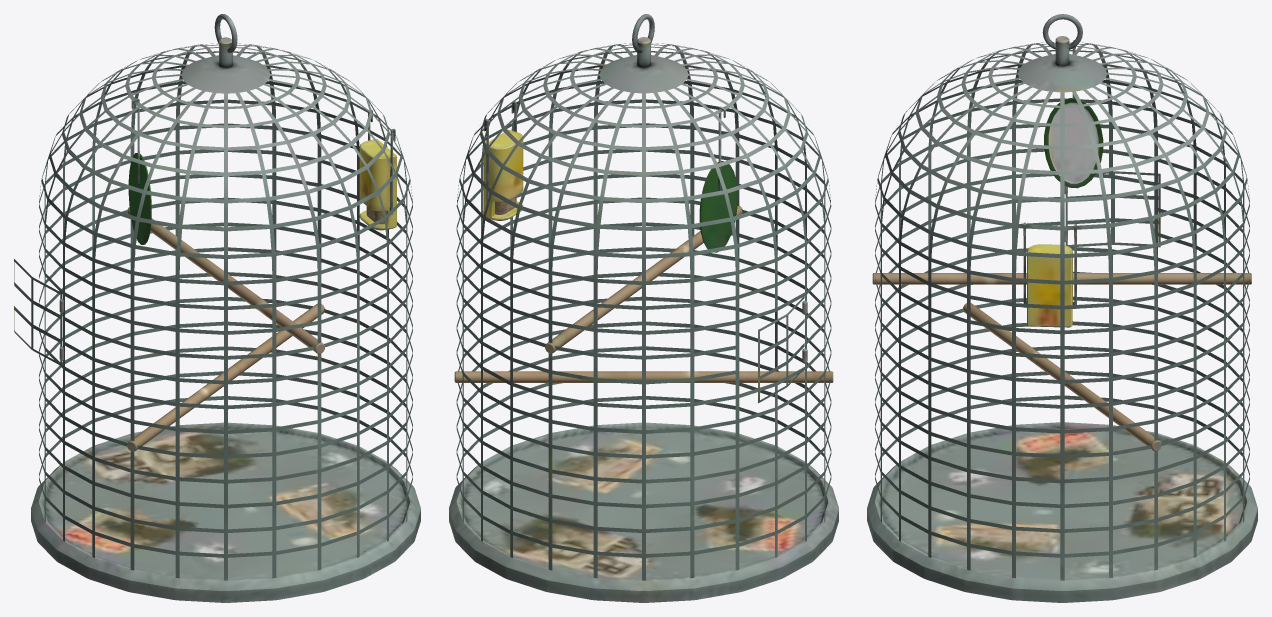
The model's file is obj_birdcage_3.glb.
3 renders of one model, left to right at view 1: azimuth 30°, elevation 25°; view 2: azimuth 150°, elevation 25°; view 3: azimuth 270°, elevation 25°, orthographic.
Parts seen in each view (by area): view 1: Mesh_Default_0; view 2: Mesh_Default_0; view 3: Mesh_Default_0.
Boxes of the visible parts, <box> form: Mesh_Default_0: <box>14,14,420,602</box>; Mesh_Default_0: <box>449,14,838,602</box>; Mesh_Default_0: <box>867,14,1257,602</box>.
Bounding box in the file's own units: 0.4195 × 0.6 × 0.4195.
1 material, 1 textured.
